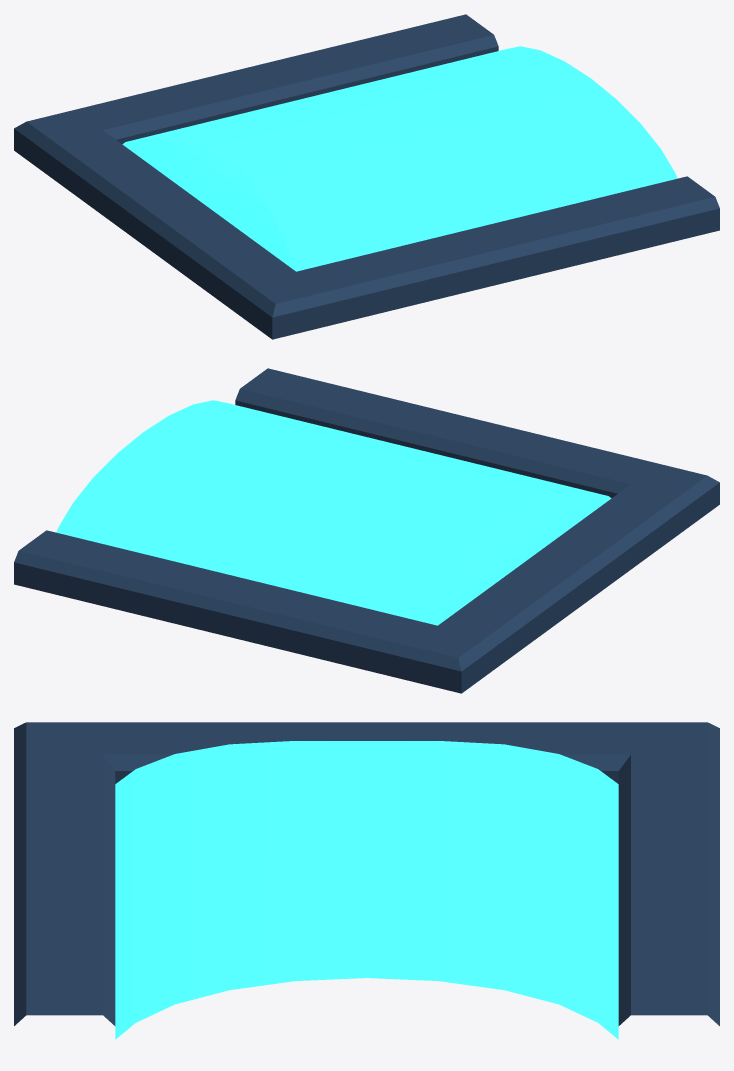
File: Light_Trim_01_SquareShortEnd.fbx
3 renders of one model, top to bottom at view 1: azimuth 30°, elevation 25°; view 2: azimuth 150°, elevation 25°; view 3: azimuth 270°, elevation 25°, orthographic. The views are drawn at different scales.
Visible parts, largest first — view 1: Light_Trim_01_SquareShortEnd.001; view 2: Light_Trim_01_SquareShortEnd.001; view 3: Light_Trim_01_SquareShortEnd.001.
Boxes of the visible parts, x1,y1,x2,y2 form: Light_Trim_01_SquareShortEnd.001: [14, 14, 719, 339]; Light_Trim_01_SquareShortEnd.001: [14, 368, 719, 693]; Light_Trim_01_SquareShortEnd.001: [14, 722, 719, 1039].
Size of the model in its own units: 0.1 by 0.0123 by 0.1.
